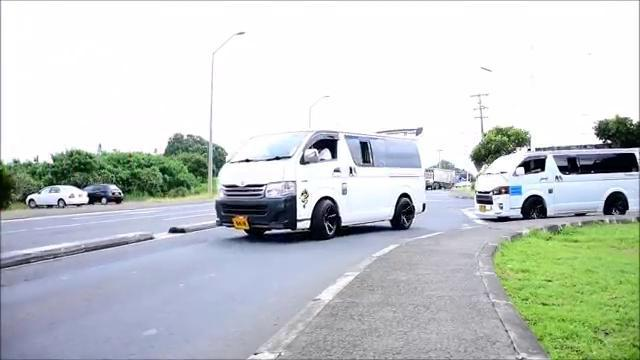van: (213, 127, 427, 240), (466, 146, 640, 222)
